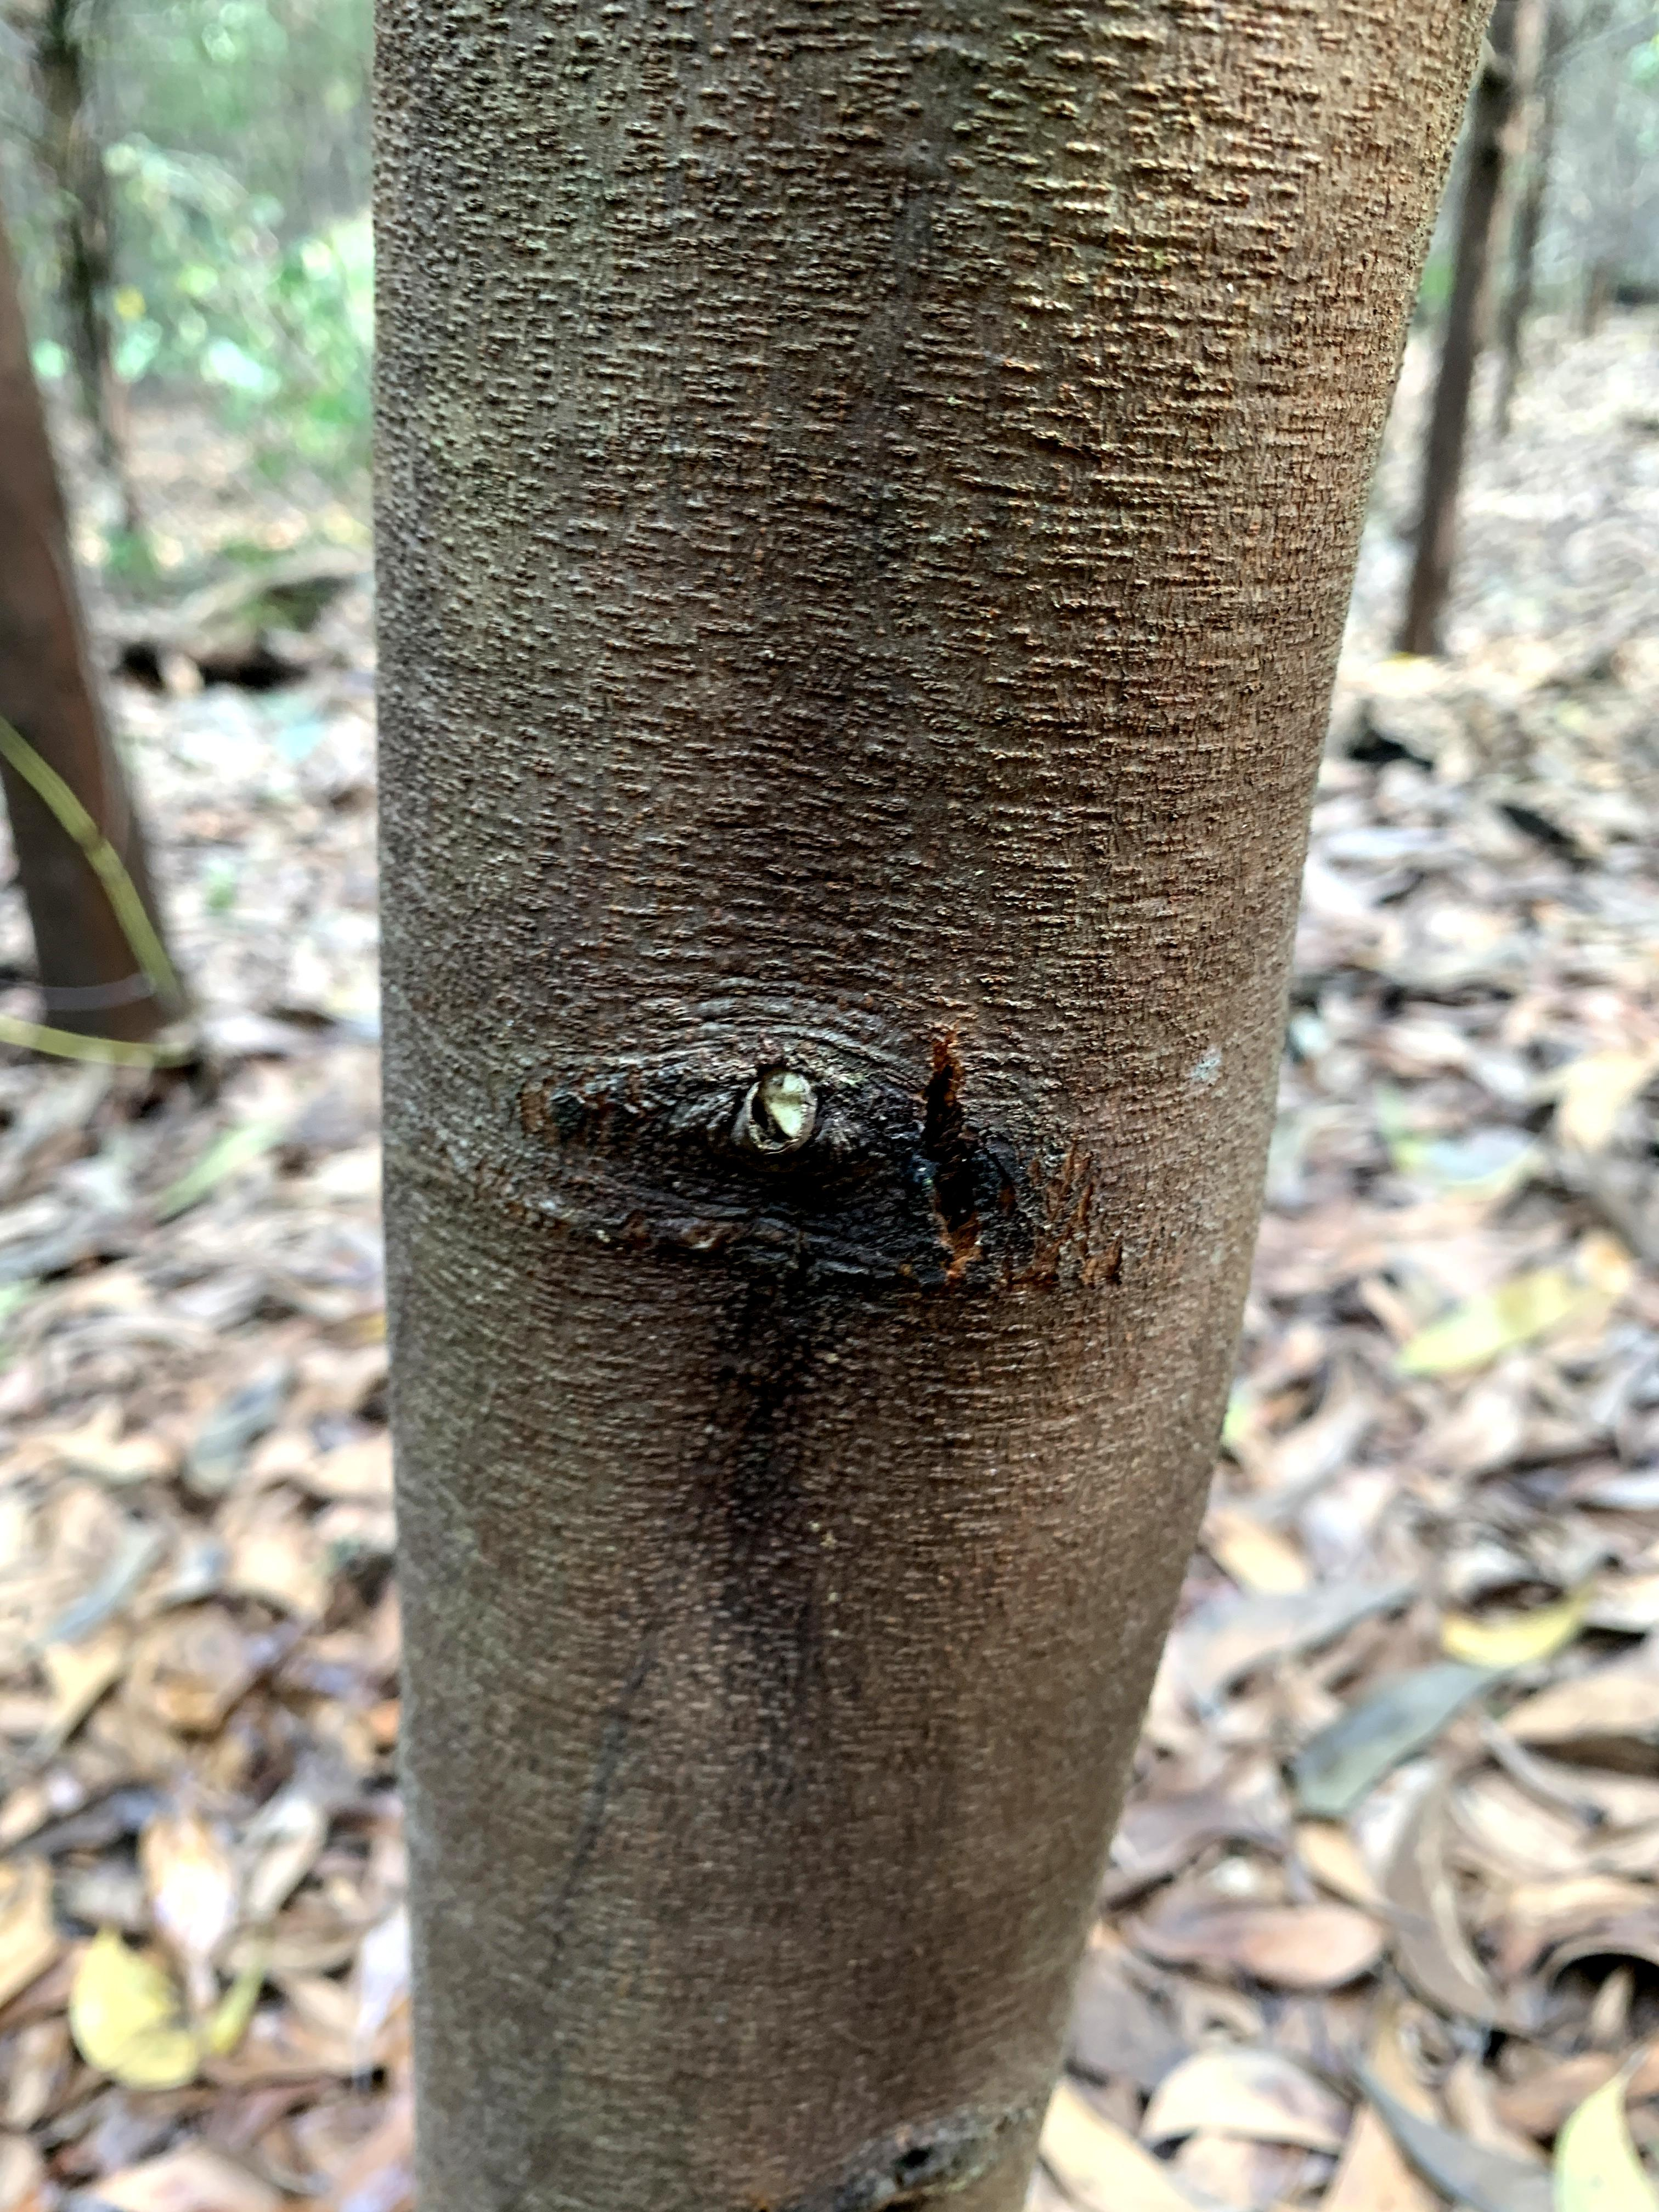Stem Borer: (533, 967, 1141, 1487)
